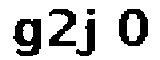0: (115, 6, 152, 50)
2: (47, 6, 79, 49)
g: (10, 16, 44, 60)
j: (79, 6, 104, 59)
